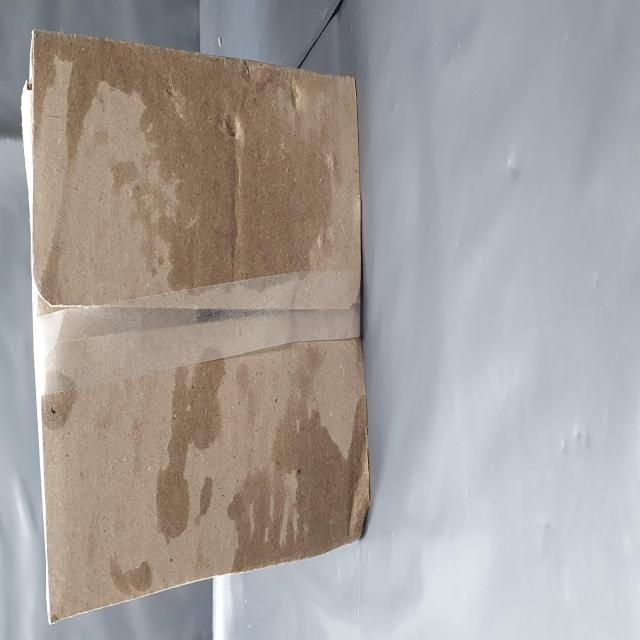wet: (192, 65, 333, 633), (20, 228, 156, 640)
